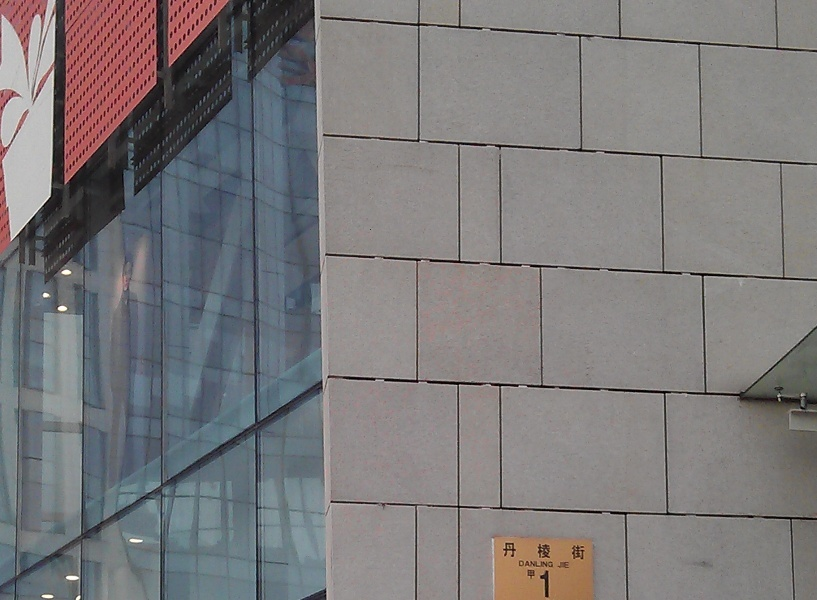text: (513, 542, 528, 560), (529, 542, 544, 560), (545, 542, 560, 560), (561, 542, 576, 560), (577, 542, 587, 560), (545, 570, 551, 598), (503, 542, 512, 560), (539, 570, 544, 598), (529, 560, 544, 568), (518, 560, 528, 568), (545, 560, 554, 568), (561, 562, 571, 569), (529, 570, 536, 580), (558, 562, 560, 569), (527, 570, 528, 580)
